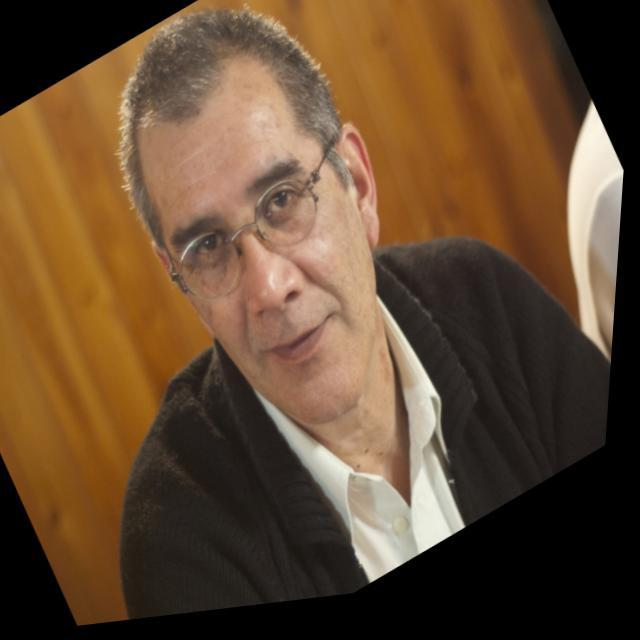Nonhelmet: (111, 5, 393, 425)
